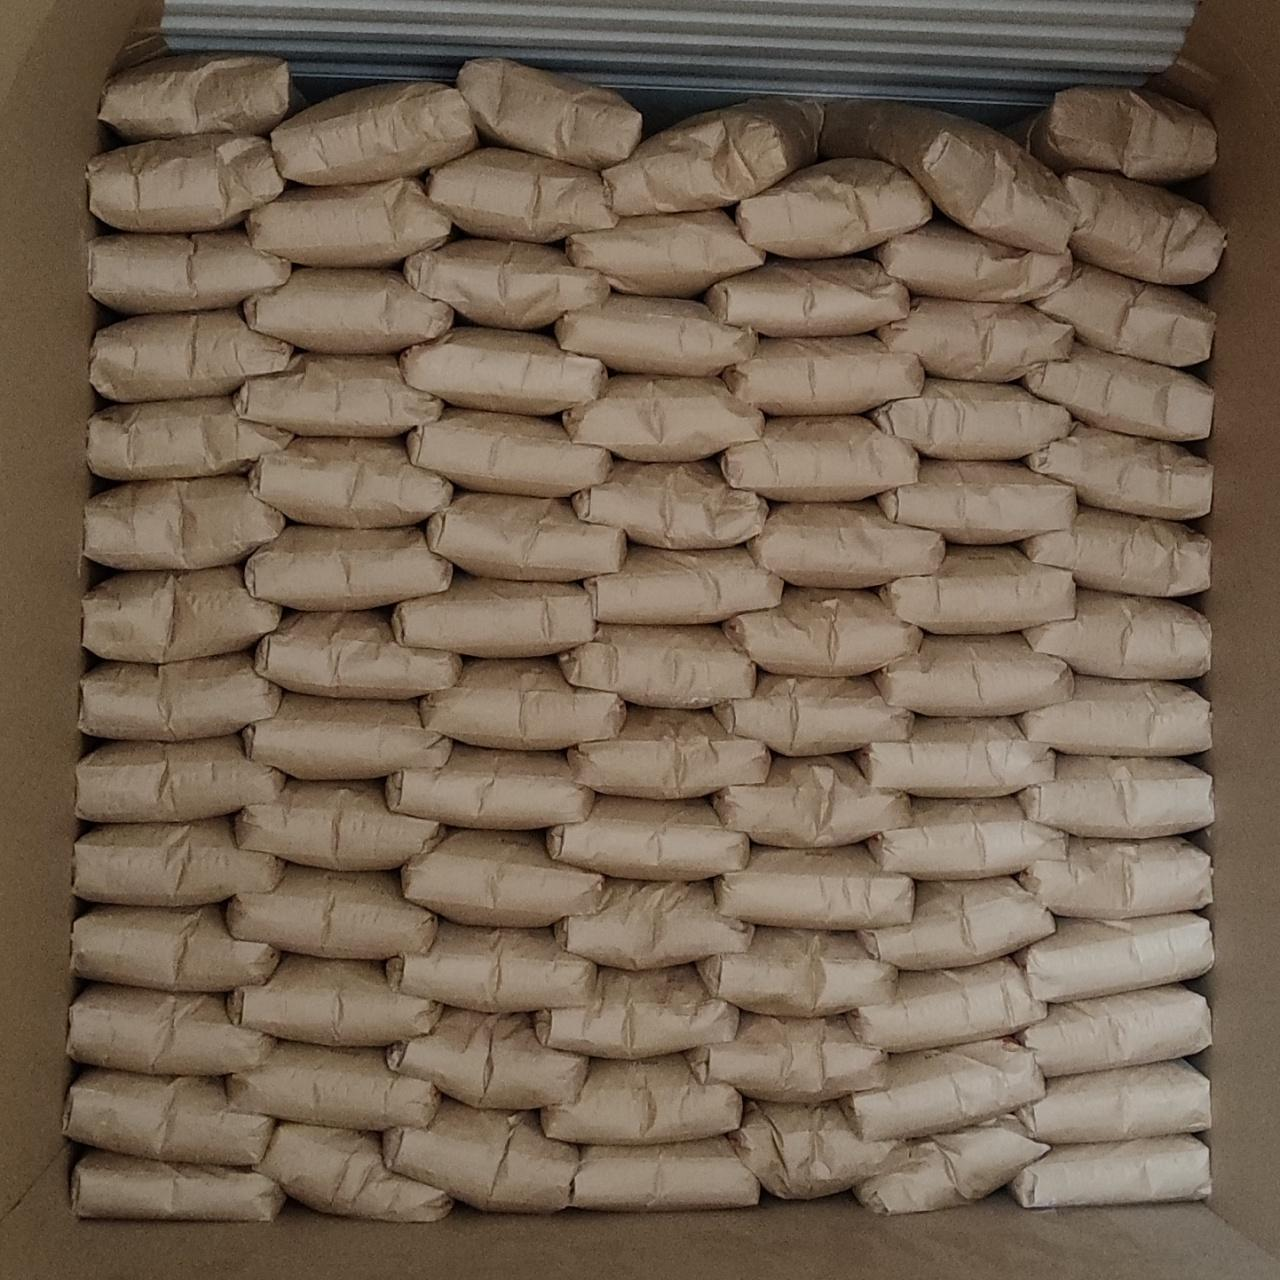sack: (821, 94, 1078, 250), (604, 96, 822, 215), (384, 1099, 574, 1212), (272, 82, 478, 182), (842, 1040, 1044, 1141), (66, 1070, 272, 1166), (456, 57, 638, 166), (388, 1008, 586, 1108), (229, 864, 436, 958), (402, 830, 600, 926), (388, 920, 594, 1012), (230, 954, 438, 1044), (1014, 88, 1214, 182), (84, 566, 278, 662), (738, 158, 932, 254), (236, 779, 444, 869), (258, 1124, 450, 1220), (1034, 264, 1214, 366), (68, 983, 272, 1074), (90, 136, 286, 230), (422, 658, 622, 748), (91, 309, 294, 399), (1022, 343, 1212, 438), (850, 958, 1044, 1050), (84, 476, 284, 566), (570, 708, 768, 798), (856, 1118, 1046, 1212), (229, 1042, 438, 1126), (250, 438, 450, 526), (536, 966, 736, 1054), (74, 818, 282, 903), (714, 756, 908, 846), (79, 736, 284, 822), (1065, 172, 1223, 284), (402, 328, 606, 414), (80, 652, 278, 740), (688, 1014, 886, 1102), (72, 906, 278, 990), (244, 694, 450, 778), (1024, 424, 1210, 518), (404, 240, 606, 326), (408, 408, 610, 493), (256, 610, 459, 694), (544, 1054, 740, 1142), (1020, 986, 1210, 1076), (244, 268, 452, 350), (428, 492, 622, 580), (574, 459, 765, 549), (731, 1102, 908, 1198), (388, 744, 592, 828), (564, 374, 762, 459), (236, 354, 442, 436), (246, 524, 452, 606), (246, 181, 452, 263), (100, 56, 302, 139), (697, 928, 894, 1014), (860, 878, 1051, 966), (1022, 506, 1210, 595), (556, 880, 750, 966), (90, 229, 290, 312), (88, 396, 290, 478), (722, 416, 918, 501), (748, 502, 942, 586), (428, 150, 614, 238), (549, 796, 748, 878), (1016, 914, 1212, 998), (1024, 590, 1210, 678), (878, 459, 1076, 542), (566, 212, 764, 294), (872, 218, 1070, 300), (724, 588, 918, 672), (872, 377, 1070, 458), (881, 546, 1074, 629), (556, 294, 756, 374), (876, 298, 1070, 380), (394, 574, 592, 654), (1020, 756, 1212, 838), (1017, 1060, 1208, 1142), (714, 674, 910, 754), (870, 798, 1065, 878), (706, 258, 908, 334), (716, 846, 910, 926), (560, 626, 754, 706), (724, 336, 922, 414), (856, 719, 1051, 796), (1020, 676, 1210, 756), (584, 546, 782, 622), (876, 634, 1070, 712), (1022, 838, 1210, 918), (72, 1150, 284, 1220), (1010, 1136, 1210, 1206), (572, 1138, 758, 1208)
